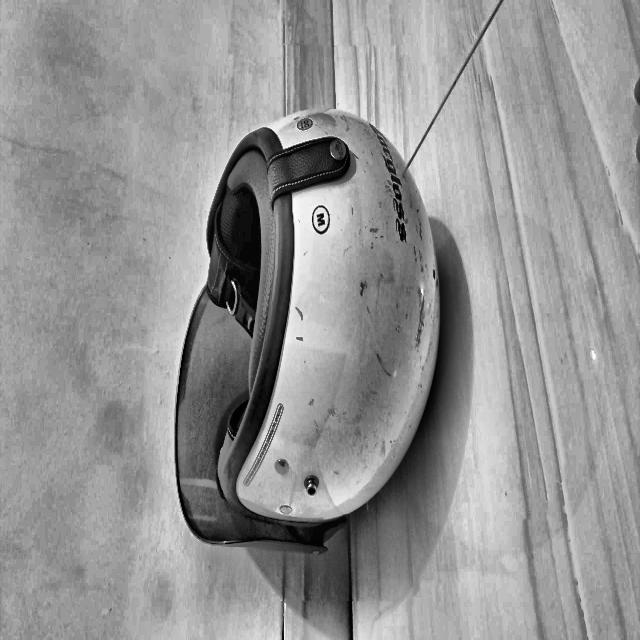Helmet: (45, 276, 312, 640)
